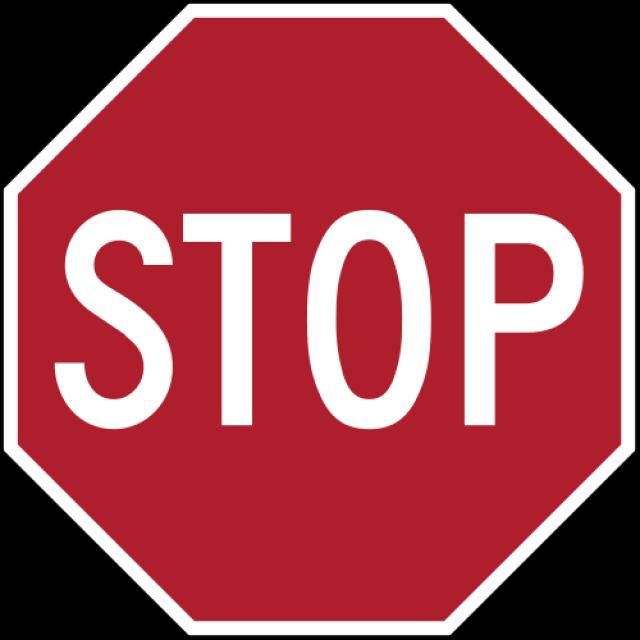stop: (42, 190, 596, 447)
